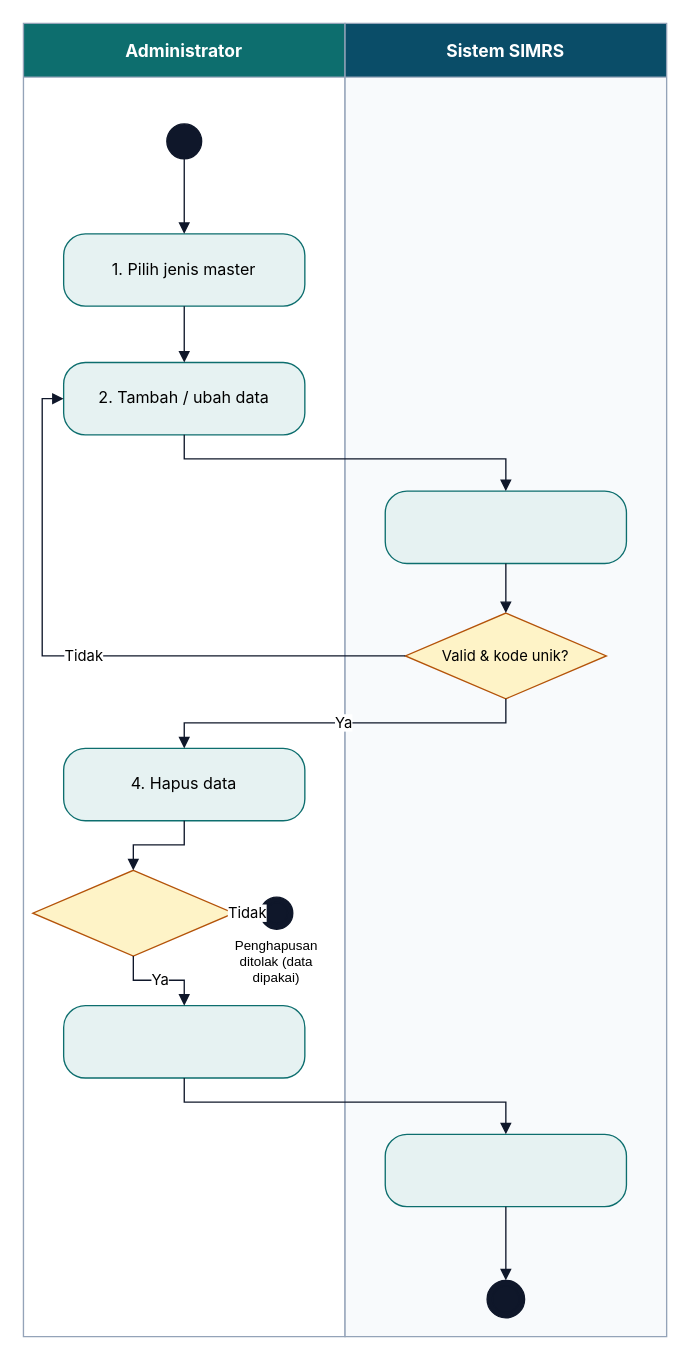
Image size: 690x1360. Some labels were removed from this diagram. The centre of each missing label's shape, as x and y in pixels:
"3. Validasi & simpan" belongs at (505,526).
"5. Ubah konfigurasi" belongs at (183,1041).
"6. Terapkan ke semua modul" belongs at (505,1170).
"Data tidak direferensikan?" belongs at (132,912).
